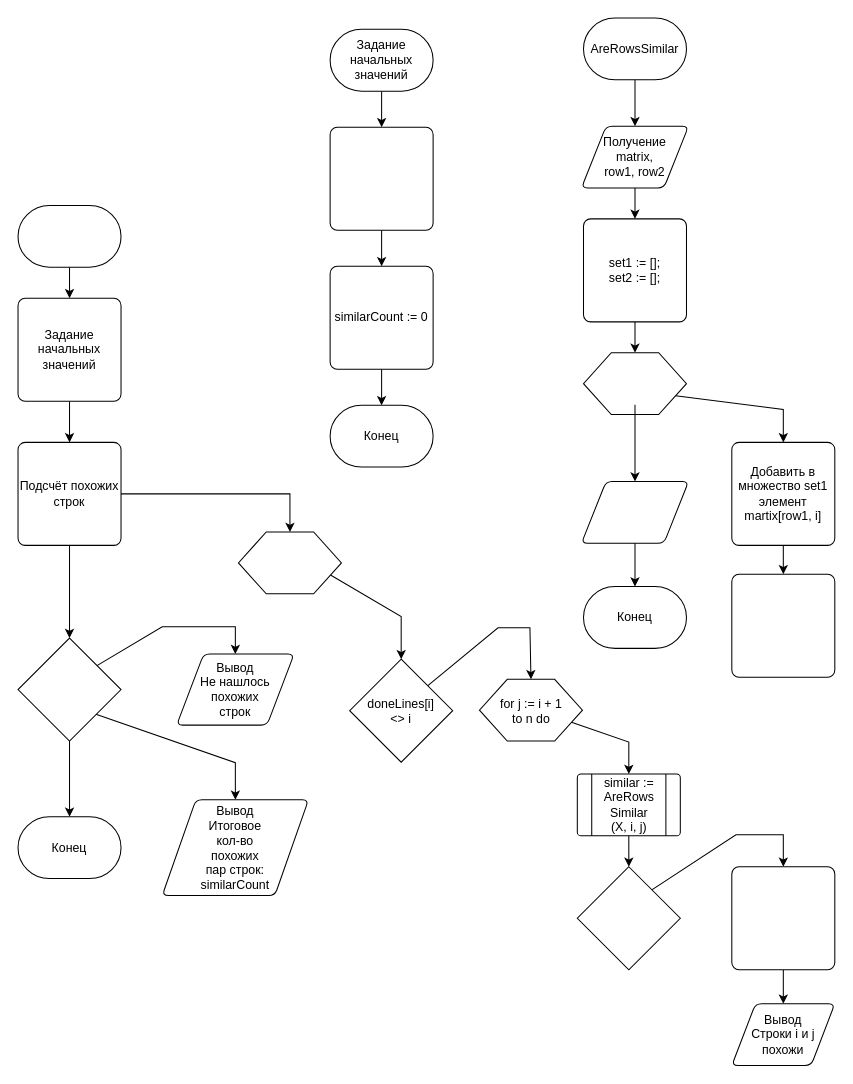
Some shapes in this 853 by 1084 pixel diagram are drawn without their labels. Each missing label, with the box of its shape:
for i := 1 to n do: (582, 352, 686, 415)
for i:=1 to n-1 do: (237, 531, 341, 594)
similar: (576, 866, 680, 970)
similarCount := similarCount + 1 doneLines[i] := i: (731, 866, 835, 970)
similarCount = 0: (17, 637, 121, 741)
Возврат set1 = set2: (580, 480, 689, 543)
Добавить в множество set2 элемент martix[row2, i]: (731, 573, 835, 677)
Матрица n = 5: (329, 126, 433, 230)
Начало: (17, 204, 121, 267)
